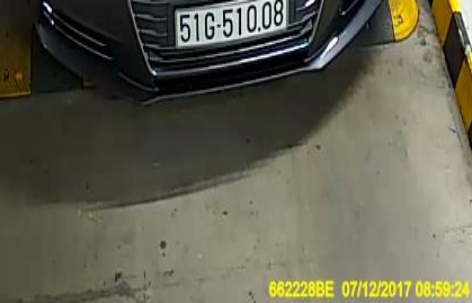plate: (168, 1, 294, 48)
